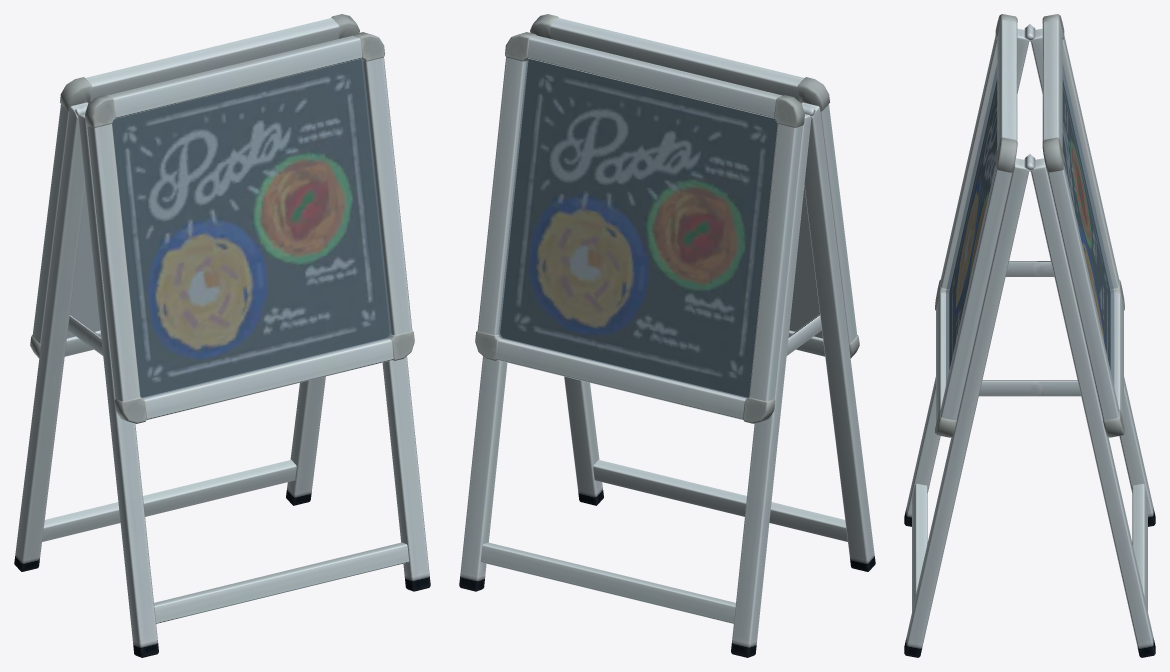
3 renders of one model, left to right at view 1: azimuth 30°, elevation 25°; view 2: azimuth 150°, elevation 25°; view 3: azimuth 270°, elevation 25°, orthographic. The views are drawn at different scales.
Size of the model in its own units: 7.52 by 12.84 by 5.71.
Materials: 3 (2 with a texture image).
